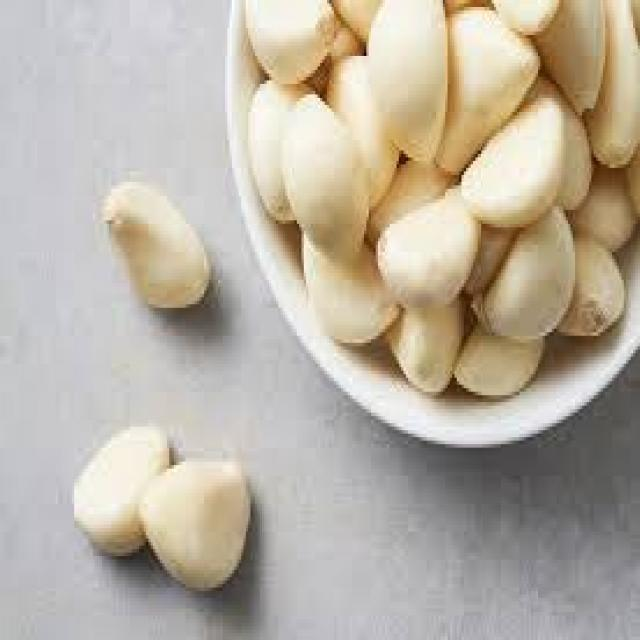Garlic bulb: (269, 4, 580, 328)
